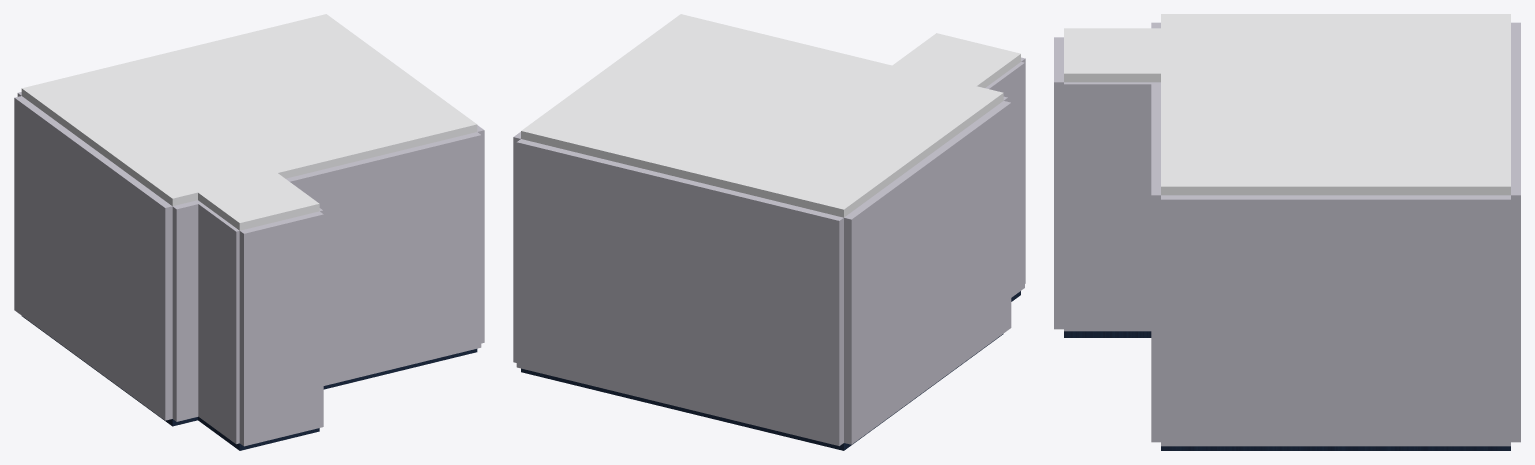
File: mobile-room-lod.glb
3 views of the same model, side by side, from view 1: azimuth 30°, elevation 25°; view 2: azimuth 150°, elevation 25°; view 3: azimuth 270°, elevation 25° (orthographic). The views are drawn at different scales.
Parts seen in each view (by area): view 1: ceiling_main, wall_front_right, wall_left, wall_hallway_b, wall_hallway_l, wall_front_left, ceiling_hallway, floor_main, wall_right, floor_hallway; view 2: wall_rear, ceiling_main, wall_left, ceiling_hallway, wall_hallway_l, floor_main, wall_right; view 3: wall_right, ceiling_main, wall_hallway_r, ceiling_hallway, wall_rear, wall_front_right, wall_hallway_b, floor_main, floor_hallway.
Part boxes in pixels (x1,y1,x2,y2): ceiling_main: (21, 14, 477, 206); wall_front_right: (286, 132, 481, 385); wall_left: (14, 96, 172, 420); wall_hallway_b: (239, 211, 323, 446); wall_hallway_l: (194, 200, 239, 444); wall_front_left: (172, 201, 201, 421); ceiling_hallway: (198, 173, 319, 230); floor_main: (22, 316, 477, 426); wall_right: (477, 125, 484, 343); floor_hallway: (198, 416, 319, 450); wall_rear: (516, 139, 843, 445); ceiling_main: (521, 14, 1003, 217); wall_left: (844, 101, 1011, 444); ceiling_hallway: (892, 33, 1020, 87); wall_hallway_l: (985, 62, 1024, 297); floor_main: (521, 334, 1003, 450); wall_right: (513, 132, 520, 362); wall_right: (1161, 195, 1510, 446); ceiling_main: (1161, 14, 1510, 195); wall_hallway_r: (1064, 82, 1151, 331); ceiling_hallway: (1064, 28, 1160, 82); wall_rear: (1511, 22, 1520, 442); wall_front_right: (1151, 82, 1160, 442); wall_hallway_b: (1054, 37, 1063, 329); floor_main: (1161, 446, 1510, 450); floor_hallway: (1064, 331, 1151, 337).
Bounding box in the file's own units: 4.4 × 3 × 4.8.
43 materials, 7 textured.
